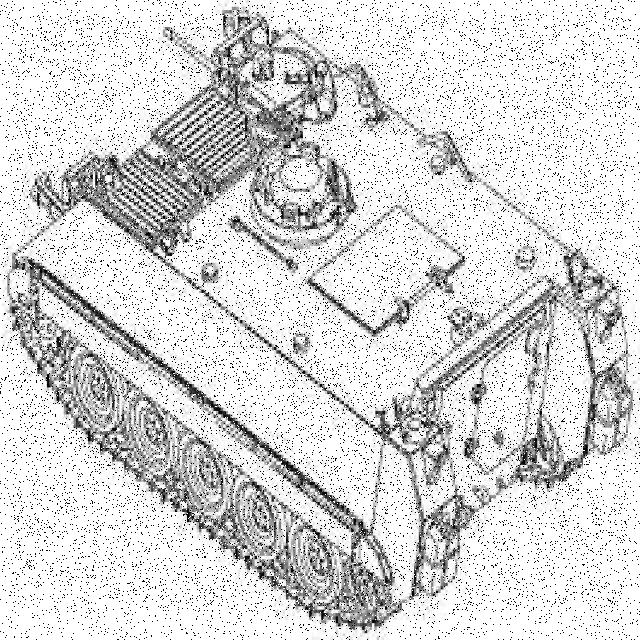MIL_MBT: (13, 16, 625, 611)
